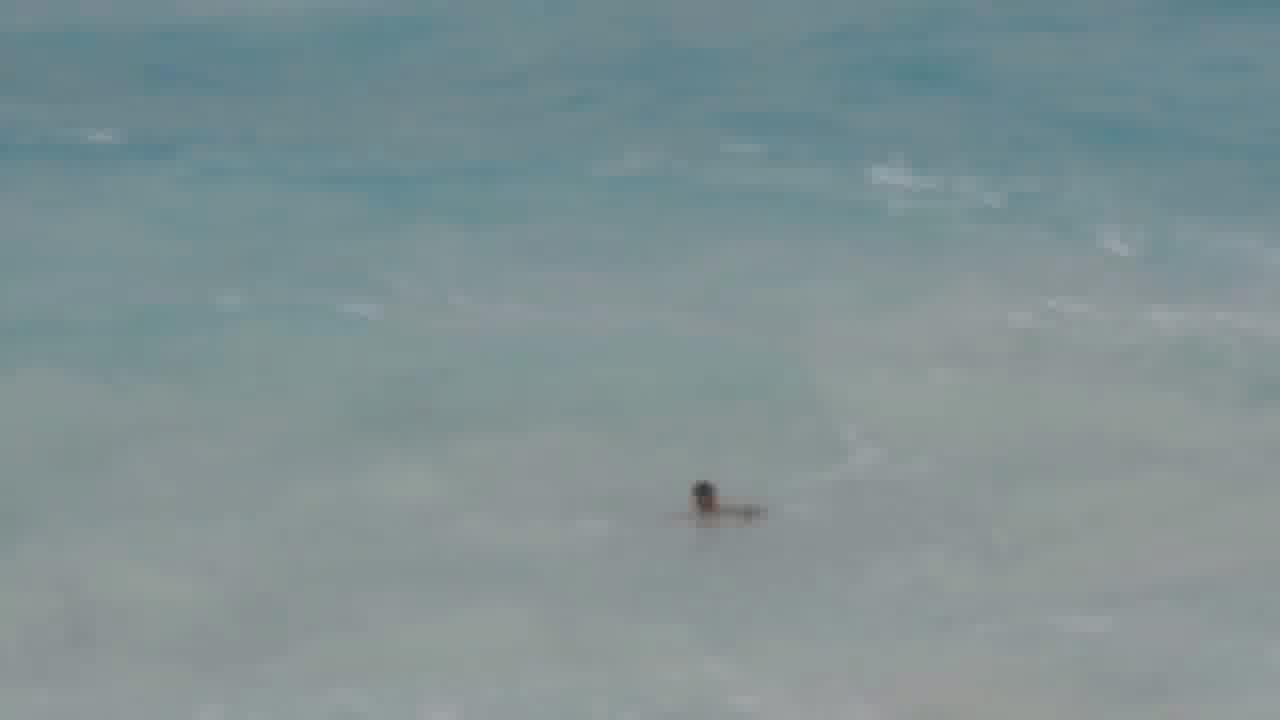swimmer: (669, 472, 742, 532)
